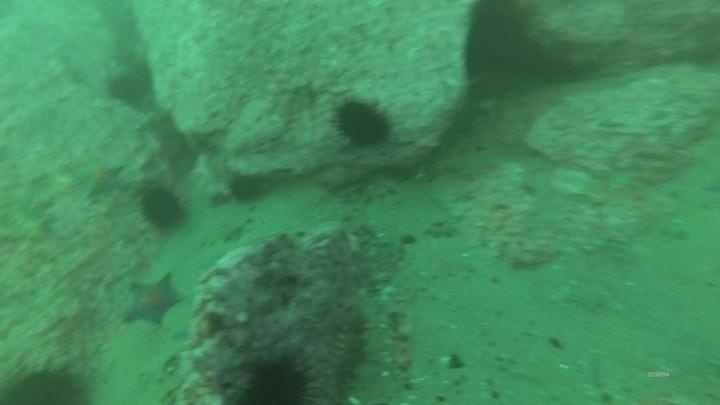echinus: (235, 352, 321, 404), (1, 359, 95, 404), (331, 95, 395, 151), (137, 182, 189, 234), (105, 69, 153, 109), (226, 171, 269, 206)
holothurian: (324, 303, 370, 400), (1, 198, 46, 241)
starfish: (119, 271, 186, 330), (73, 157, 127, 201)
